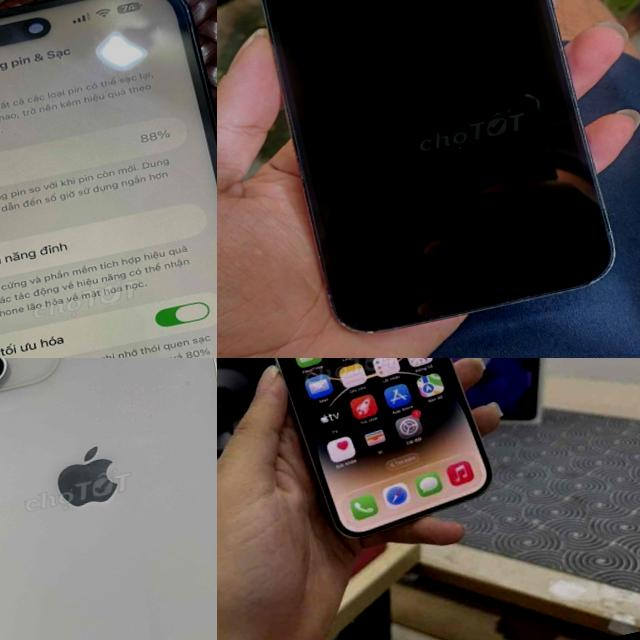gen_12_13: (262, 0, 612, 330), (0, 358, 217, 640)
gen_14: (0, 0, 217, 358), (234, 358, 510, 561)
scratch: (479, 0, 640, 306), (304, 221, 640, 358)
